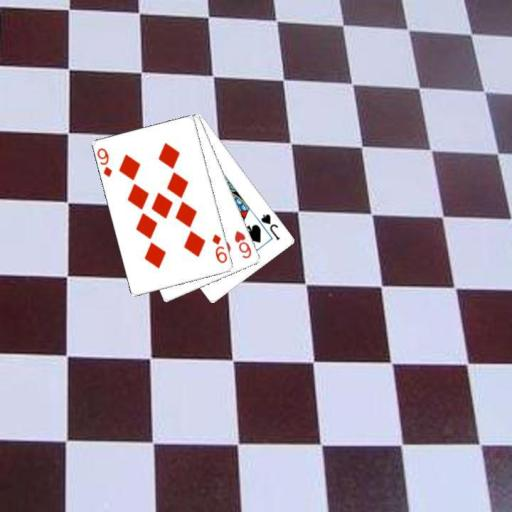6H: (231, 228, 253, 260)
9D: (209, 231, 229, 265), (95, 145, 114, 179)
JS: (258, 210, 282, 242)
